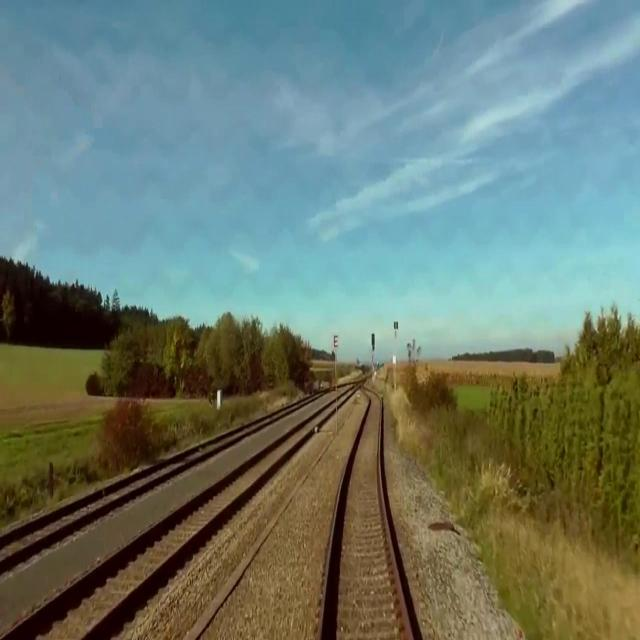rail-track: (6, 402, 335, 639), (0, 439, 222, 556), (323, 393, 407, 639)
